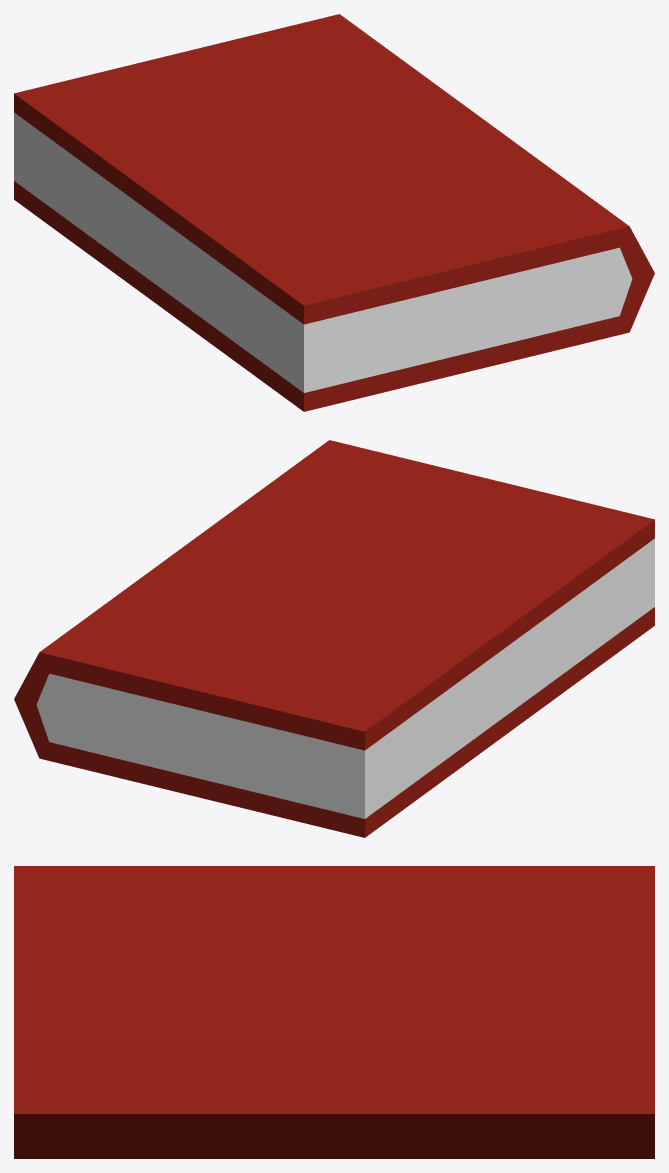
File: SM_Small_Book_01.fbx
3 views of the same model, one above another, from view 1: azimuth 30°, elevation 25°; view 2: azimuth 150°, elevation 25°; view 3: azimuth 270°, elevation 25° (orthographic). The views are drawn at different scales.
Visible parts, largest first — view 1: SM_SmallBook; view 2: SM_SmallBook; view 3: SM_SmallBook.
Boxes of the visible parts, <box> form: SM_SmallBook: <box>14,14,654,411</box>; SM_SmallBook: <box>14,440,654,837</box>; SM_SmallBook: <box>14,866,654,1158</box>.
Size of the model in its own units: 7.94 by 2.3 by 11.36.
